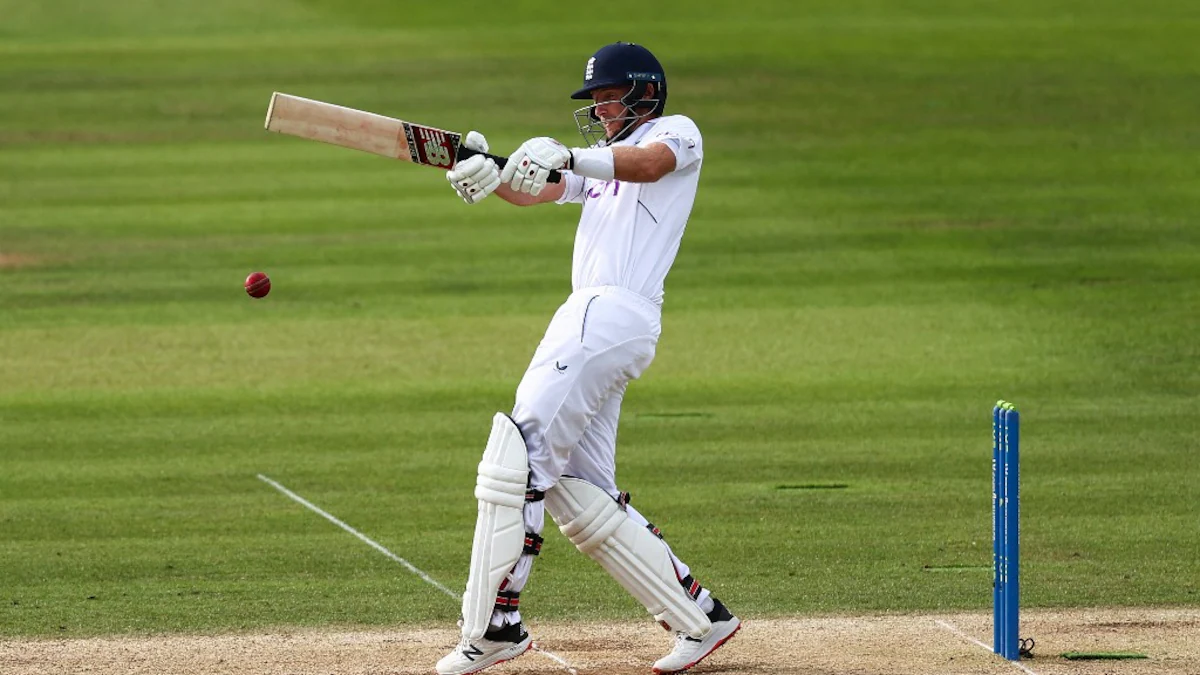Pullshot: (194, 3, 829, 675)
